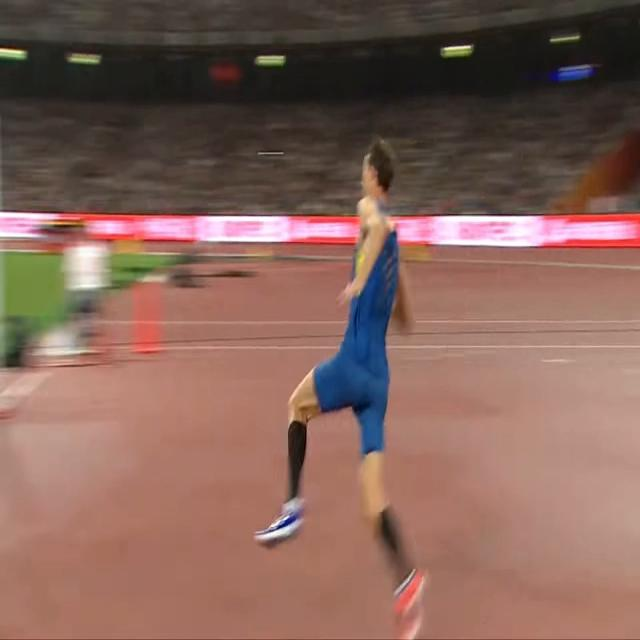run: (253, 137, 429, 640)
